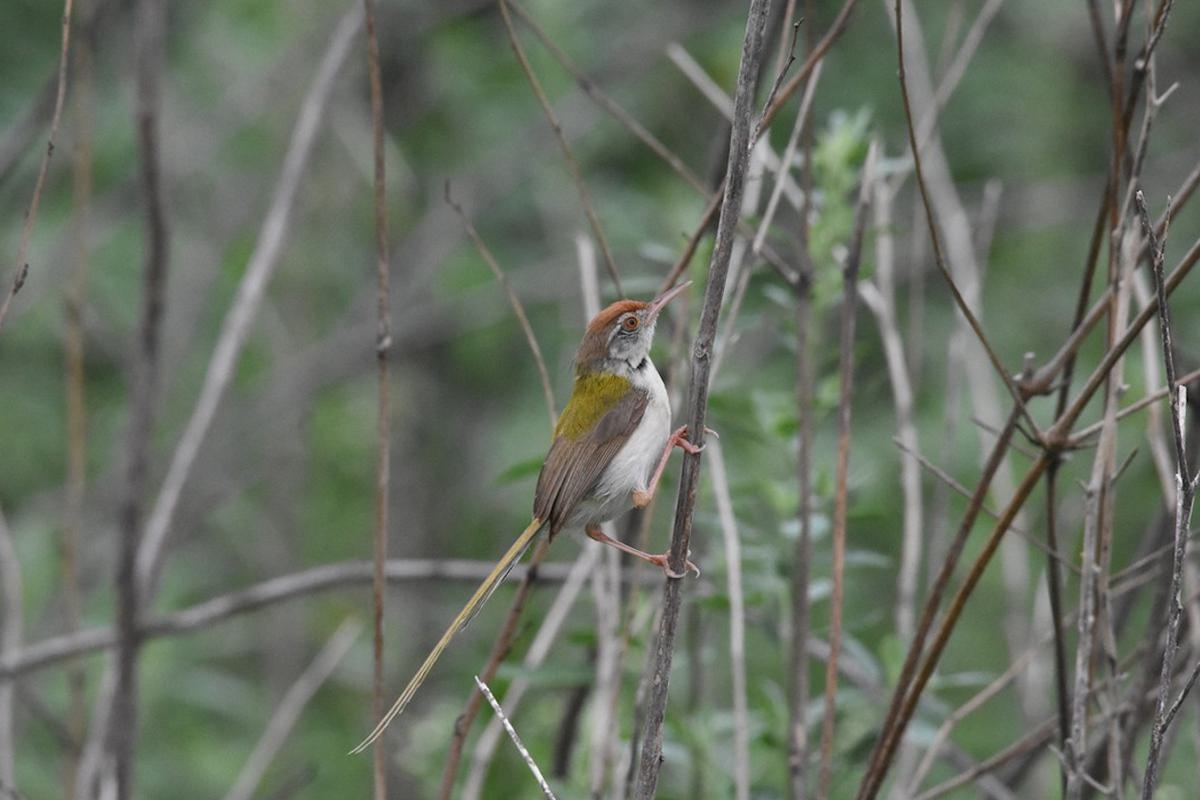tailorbird: (421, 242, 749, 677)
